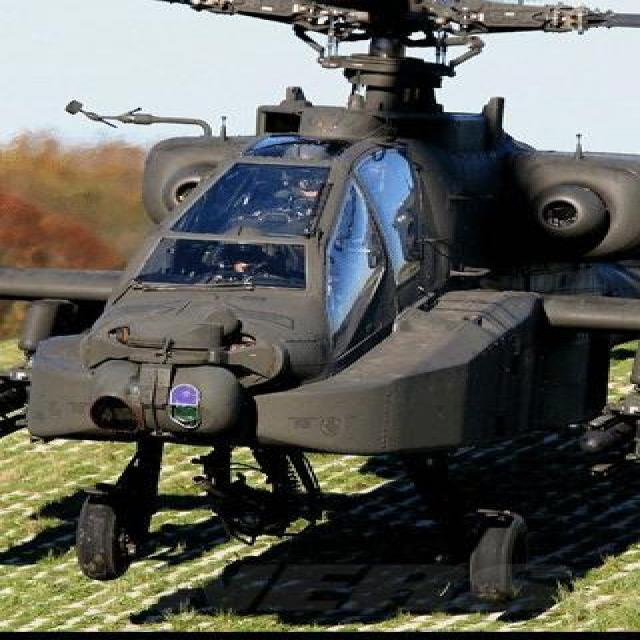MIL_HELO: (0, 13, 640, 607)
